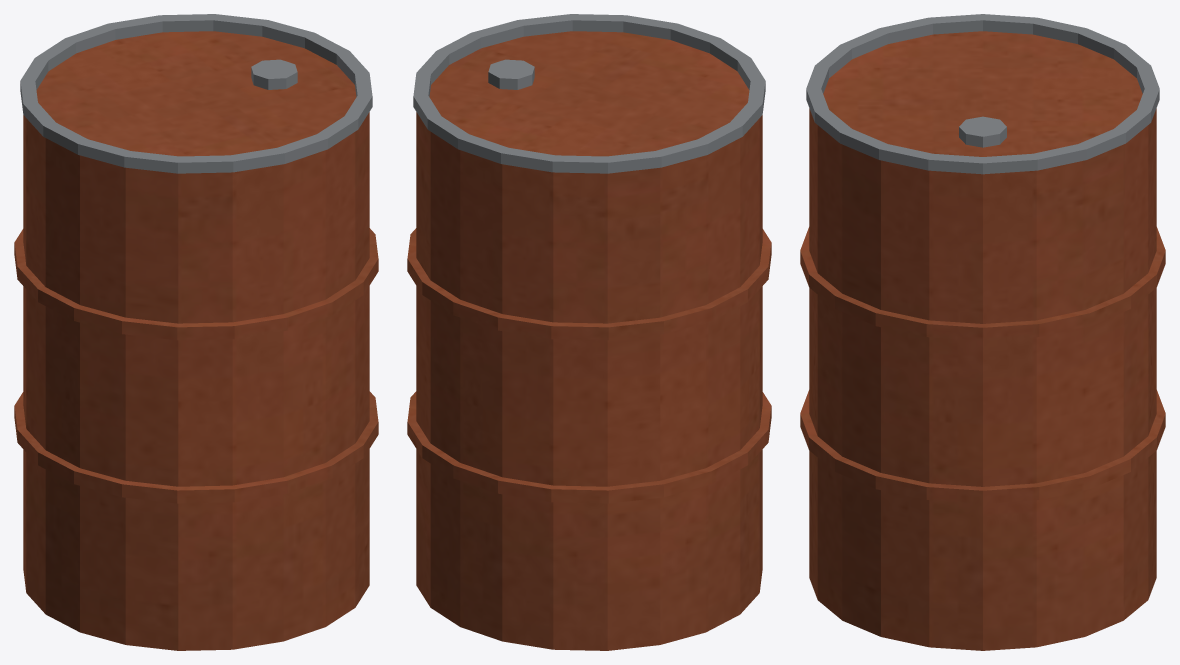
File: drum_r.glb
3 renders of one model, left to right at view 1: azimuth 30°, elevation 25°; view 2: azimuth 150°, elevation 25°; view 3: azimuth 270°, elevation 25°, orthographic.
Parts seen in each view (by area): view 1: drum_r_rust, drum_r_steel_d; view 2: drum_r_rust, drum_r_steel_d; view 3: drum_r_rust, drum_r_steel_d.
Part boxes in pixels (box(x1,y1,x2,y2)): drum_r_rust: box(14, 31, 378, 650); drum_r_steel_d: box(20, 14, 372, 173); drum_r_rust: box(407, 31, 771, 650); drum_r_steel_d: box(413, 14, 765, 173); drum_r_rust: box(800, 31, 1165, 650); drum_r_steel_d: box(806, 14, 1159, 174).
Size of the model in its own units: 0.61 by 0.9 by 0.61.
Materials: 2 (1 with a texture image).
